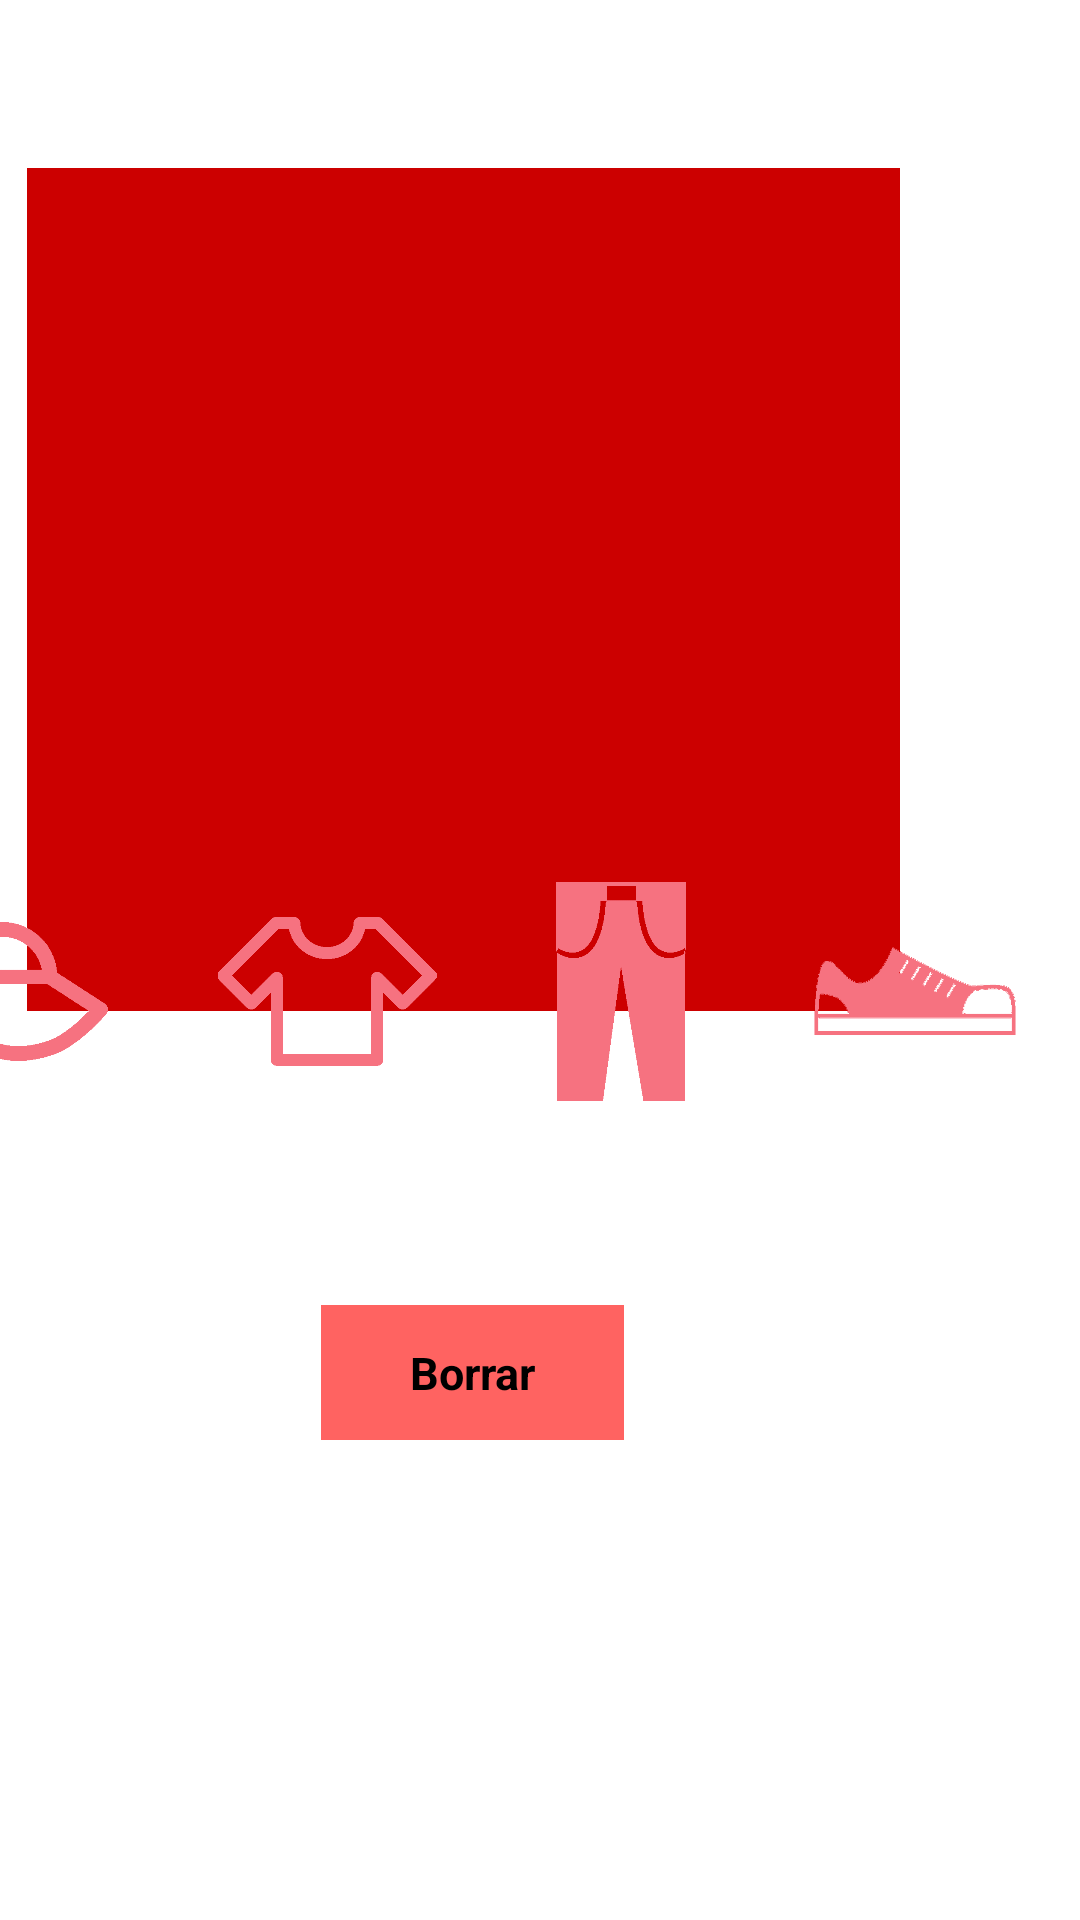

Screen size 1080x1920. Icon name, then its center in pixels as (x=x, y=y):
camisa: (x=327, y=991)
pantalon: (x=621, y=991)
zapatos: (x=907, y=958)
